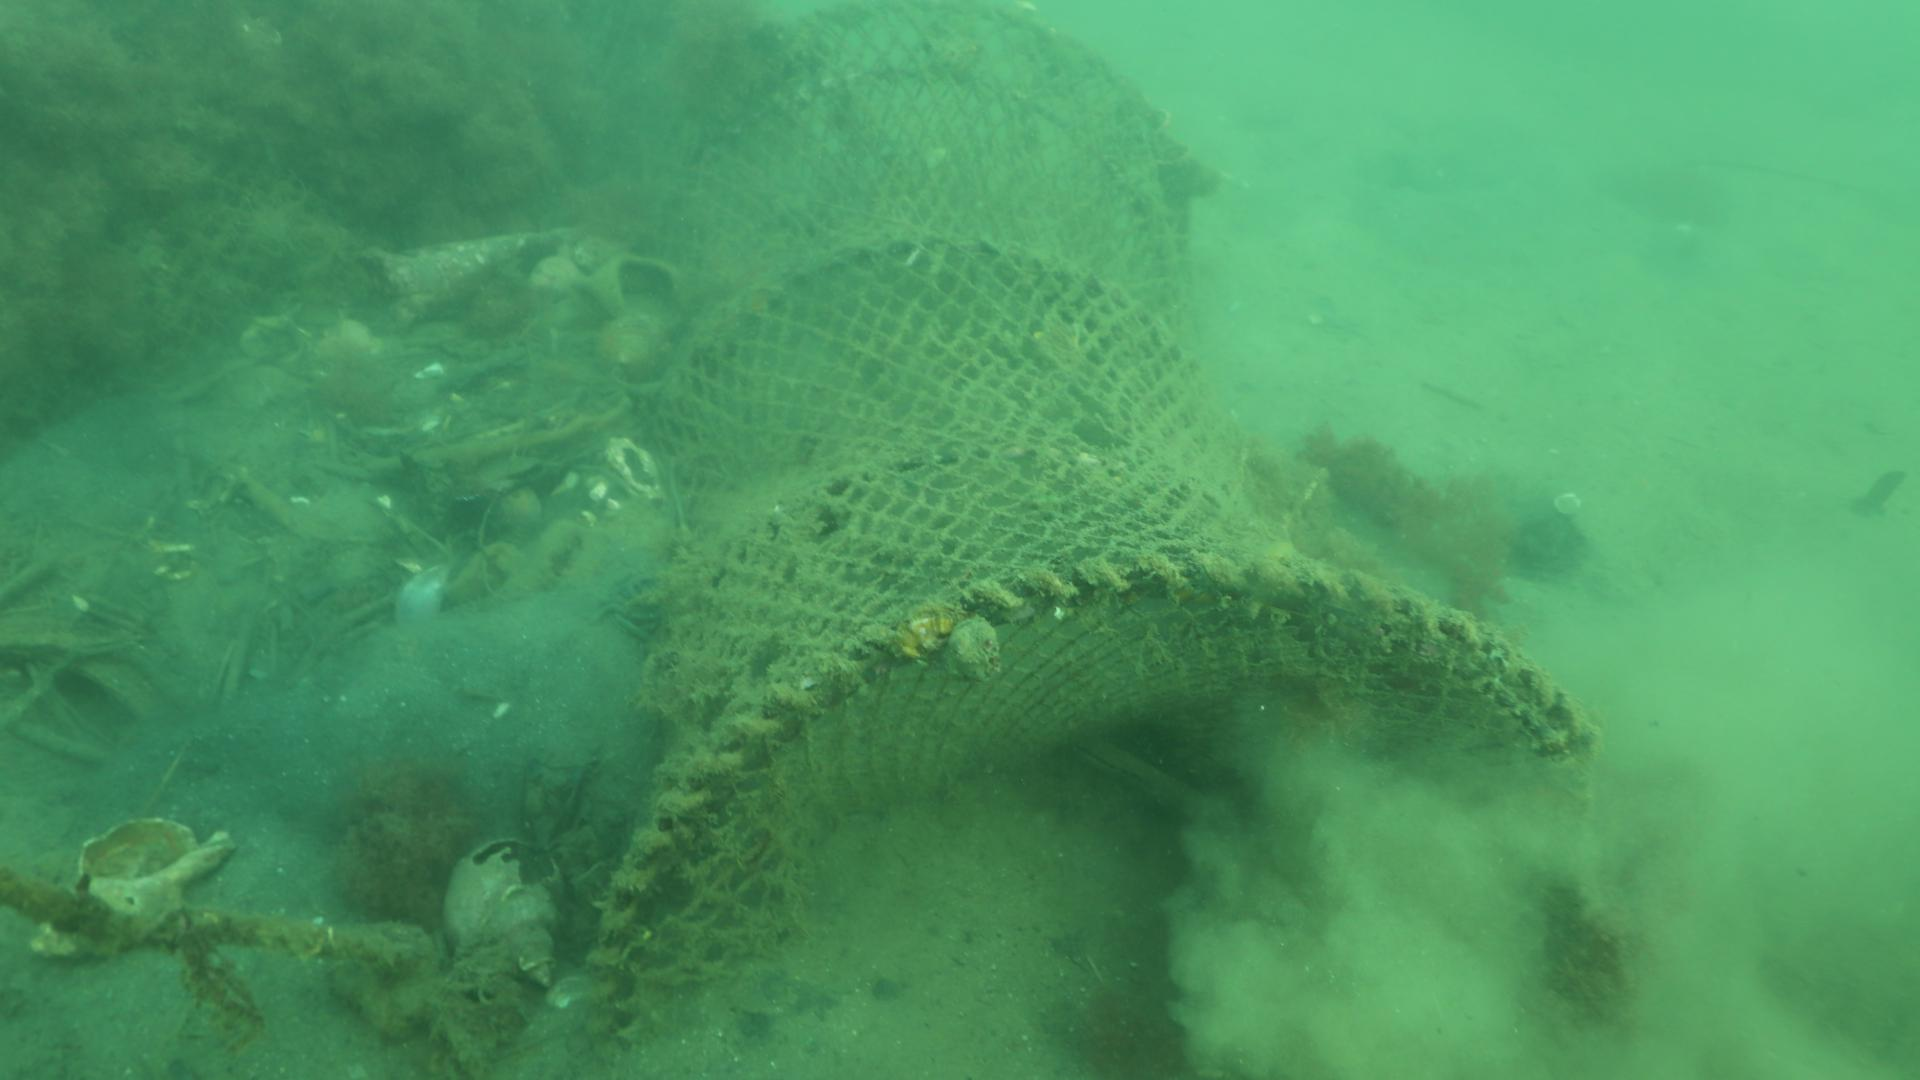spring fish trap: (582, 0, 1658, 1080)
